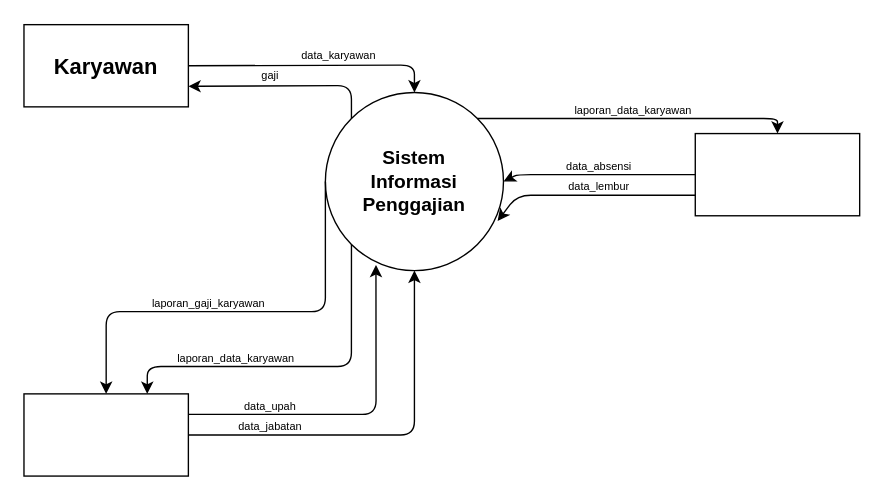
Image size: 884x500. Some labels were removed from this diagram. Here are the shapes that lost their labels. From the top down, the box of each, then its label:
(694, 132, 860, 216): Personalia
(23, 393, 188, 476): Ditektur
